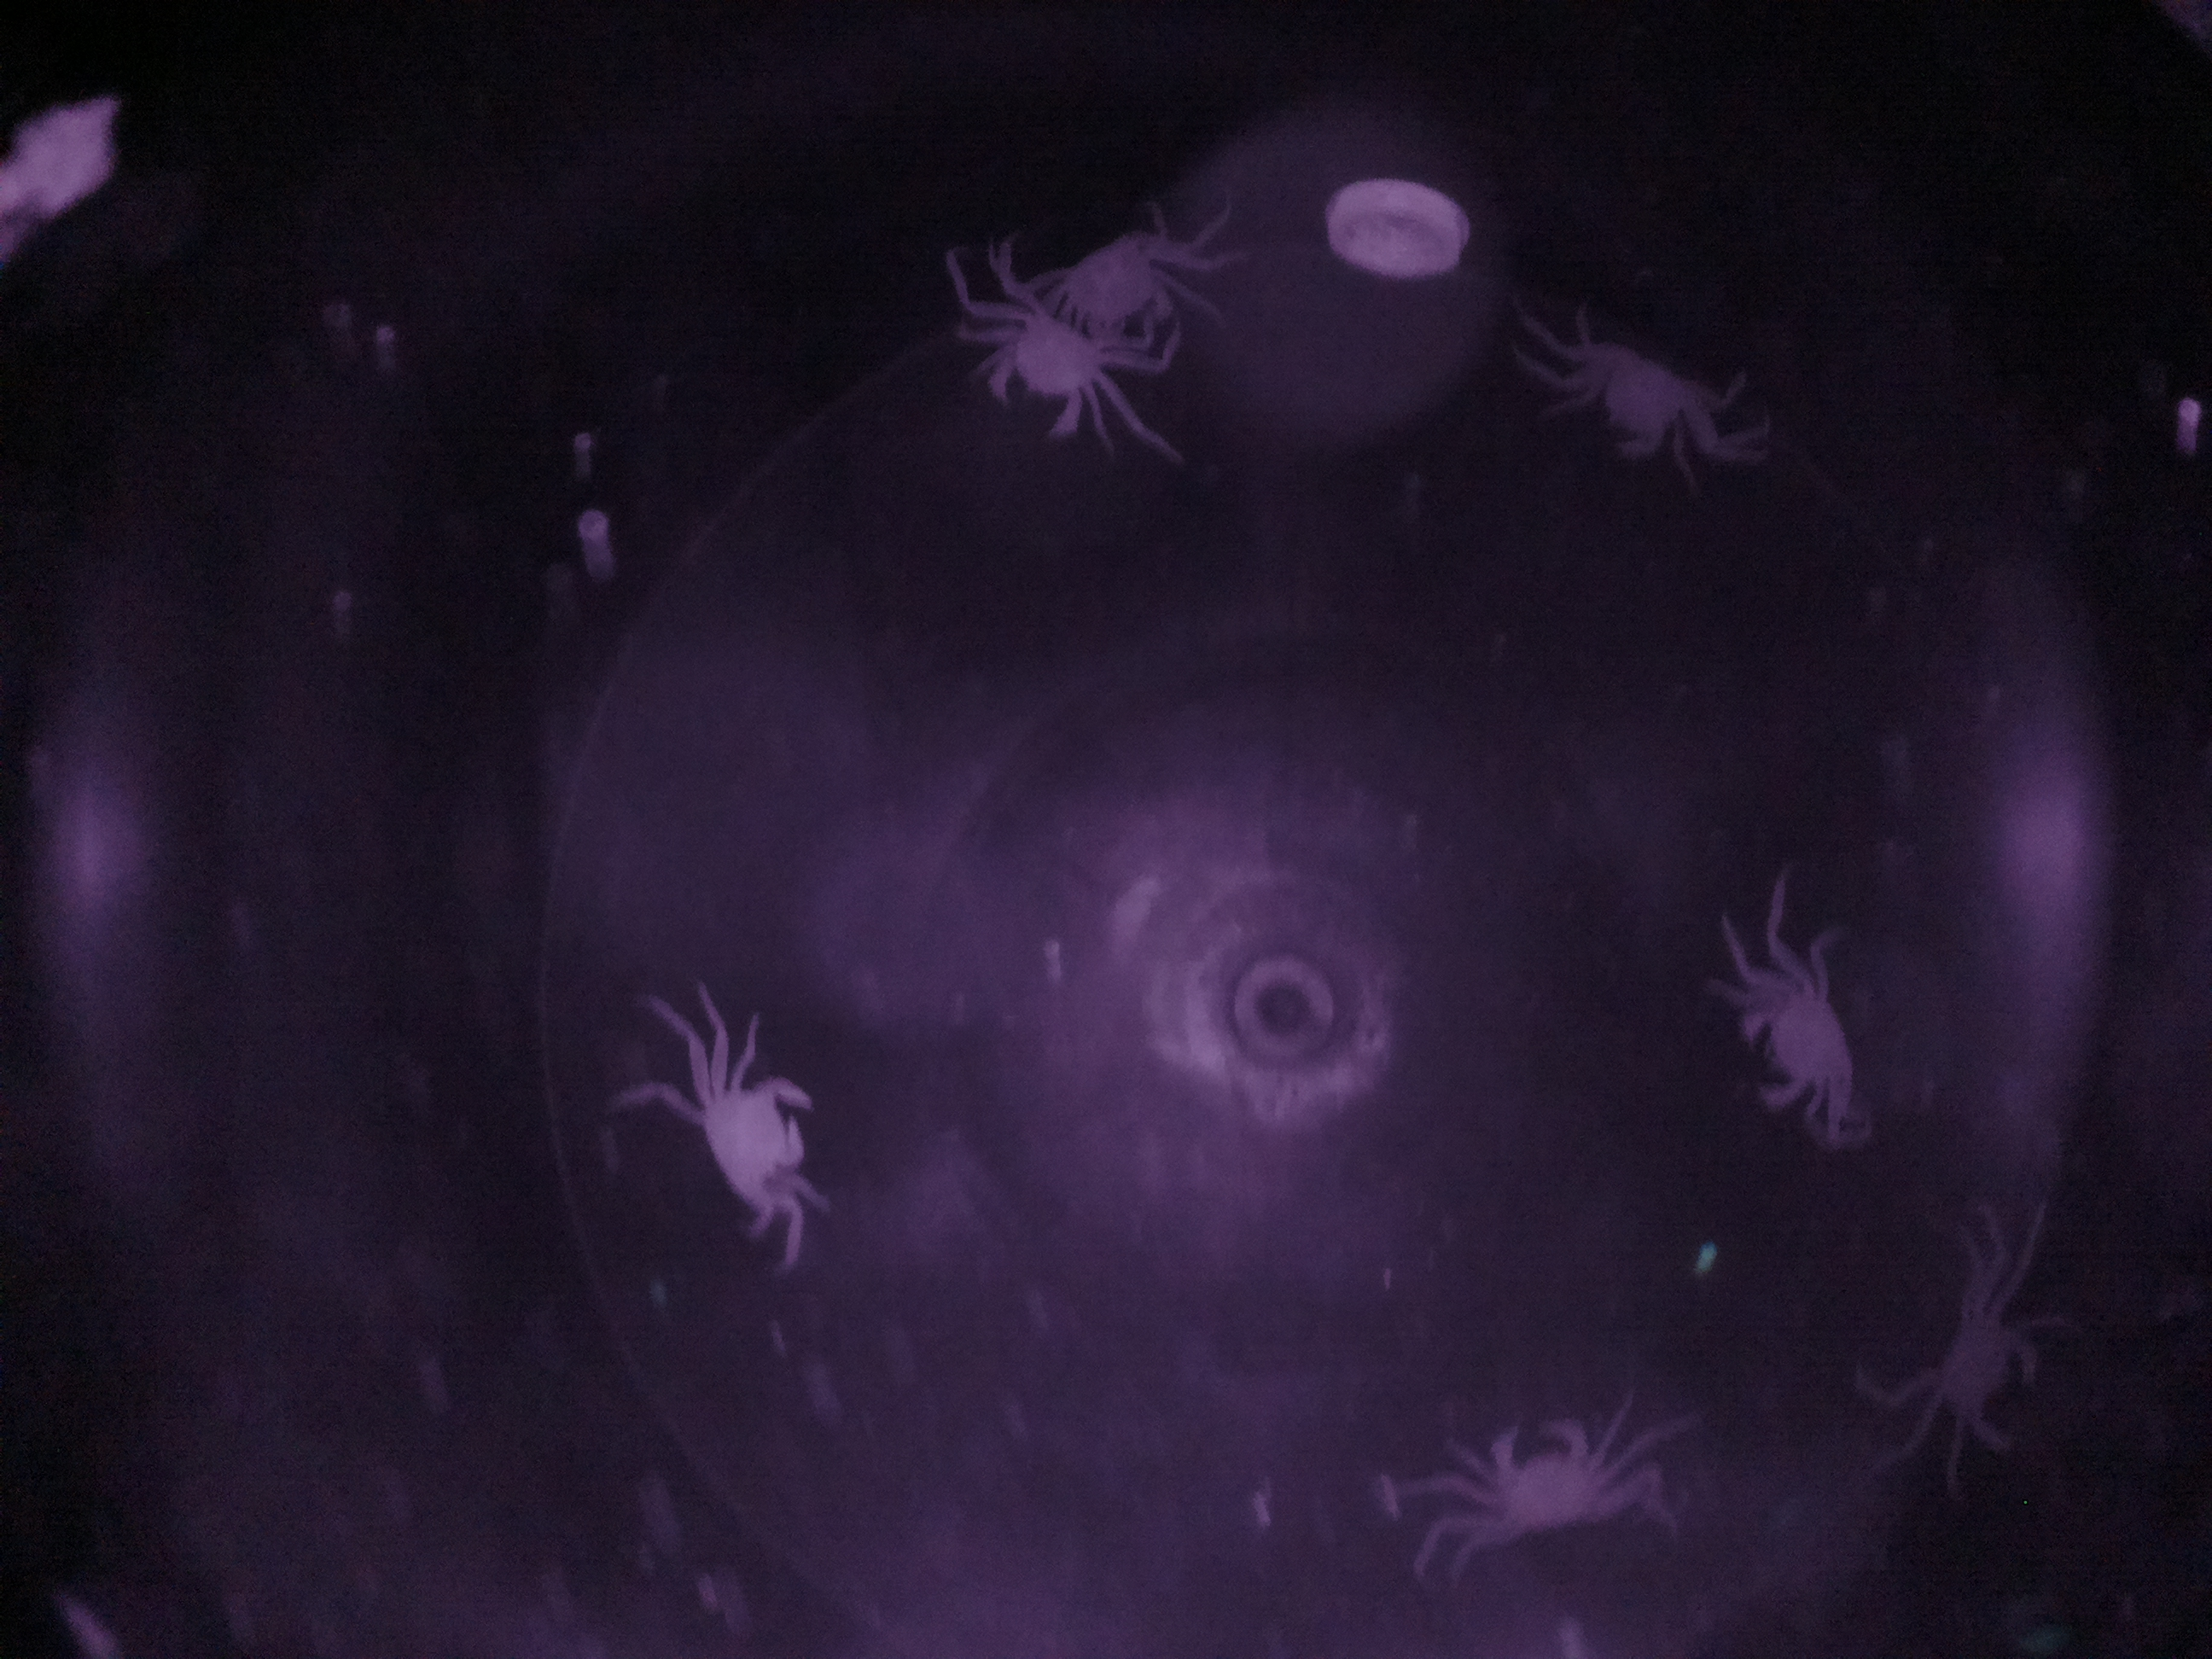Crab: (975, 272, 1144, 464), (1730, 946, 1874, 1159), (667, 1047, 827, 1234), (1467, 1403, 1623, 1554)
